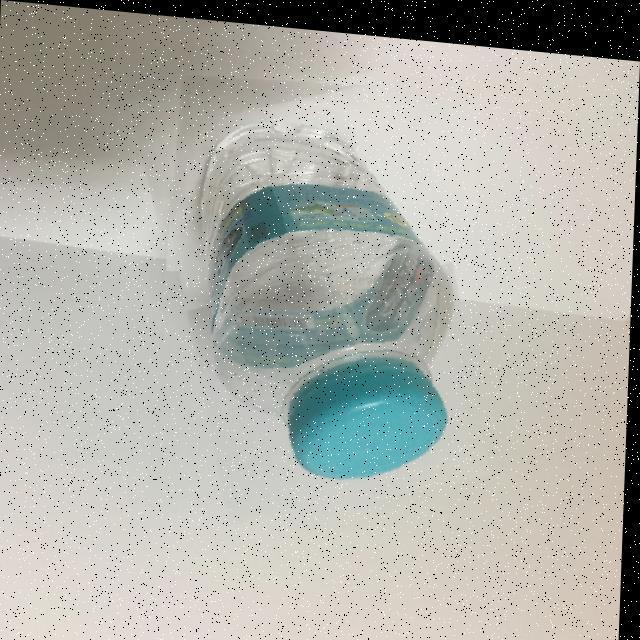plasticbottle: (147, 57, 479, 522)
plasticbottlecap: (238, 343, 419, 494)
